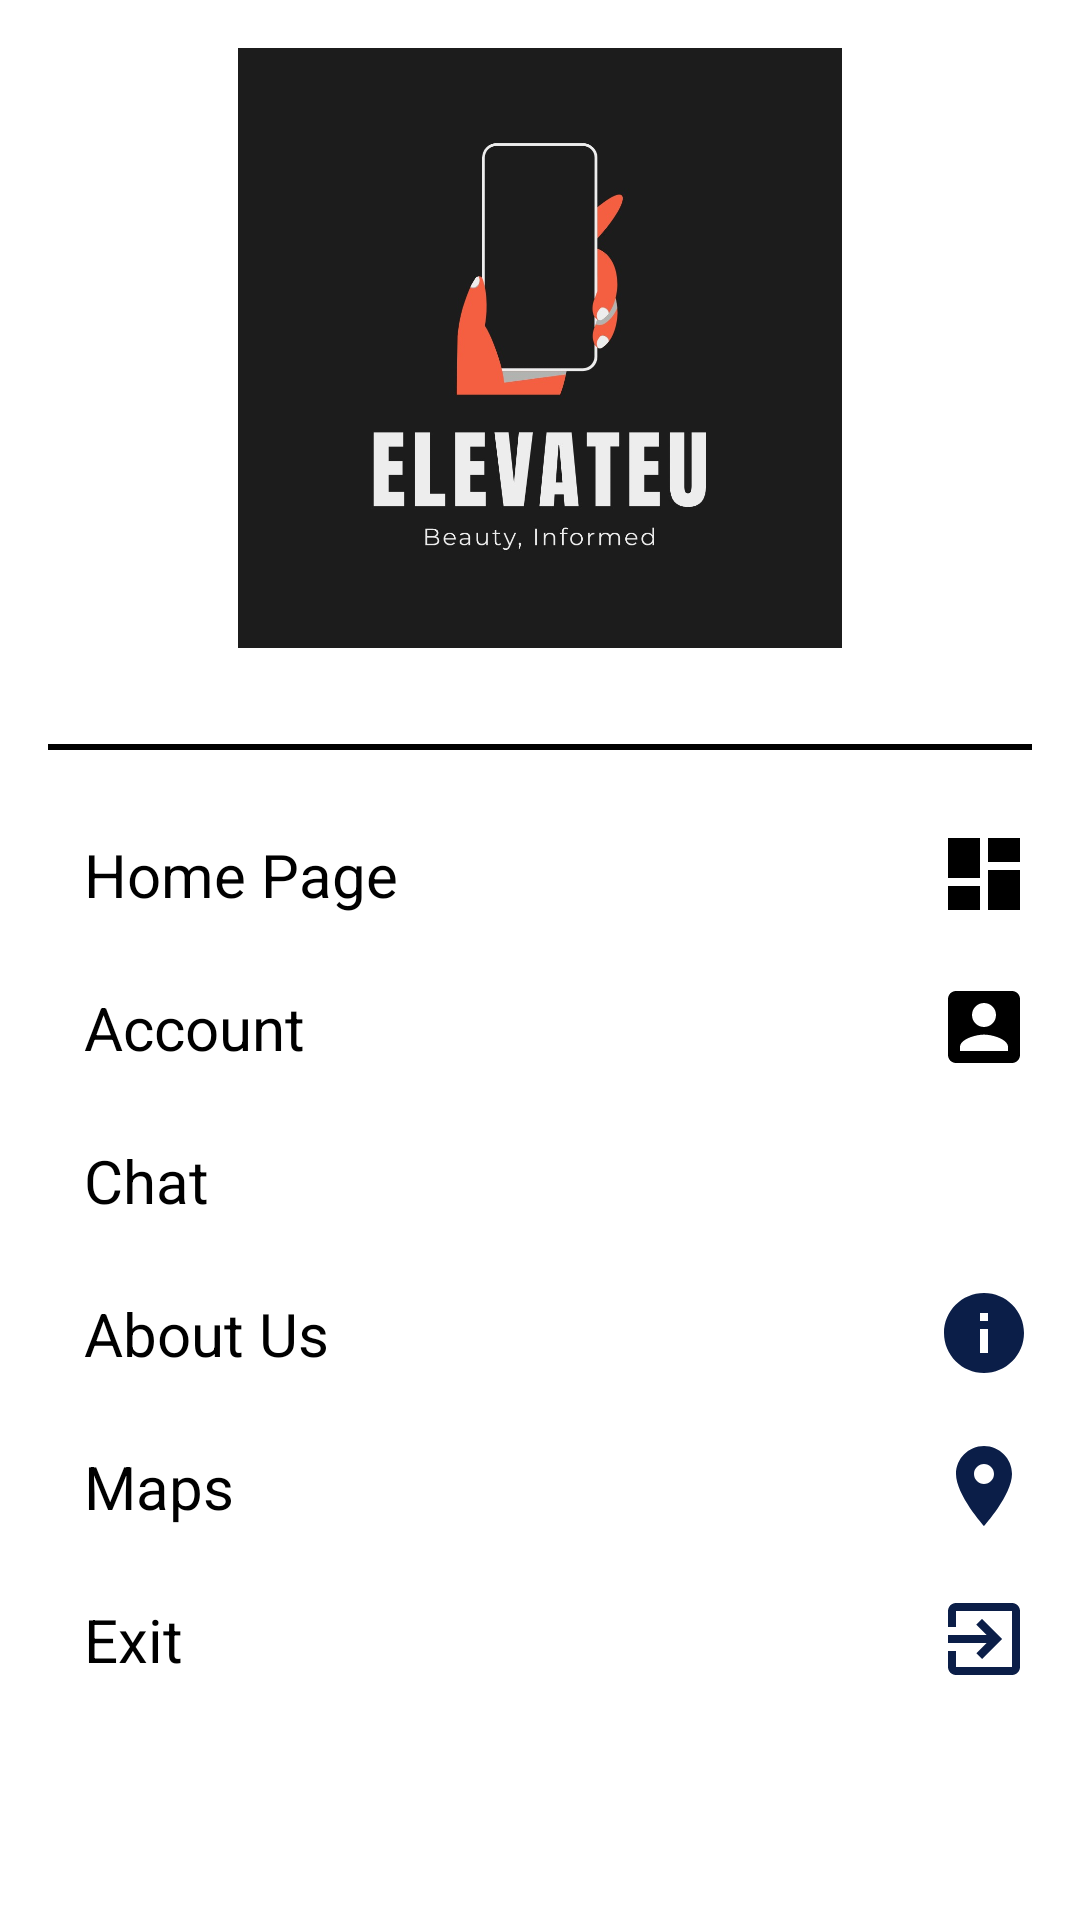

Named icons in this screenshot (1080 × 1920) and their bounding boxes, bbox=(x1, y1, x2, y2):
dashboard: bbox=(948, 838, 1020, 910)
info: bbox=(944, 1293, 1024, 1373)
place: bbox=(956, 1446, 1012, 1526)
